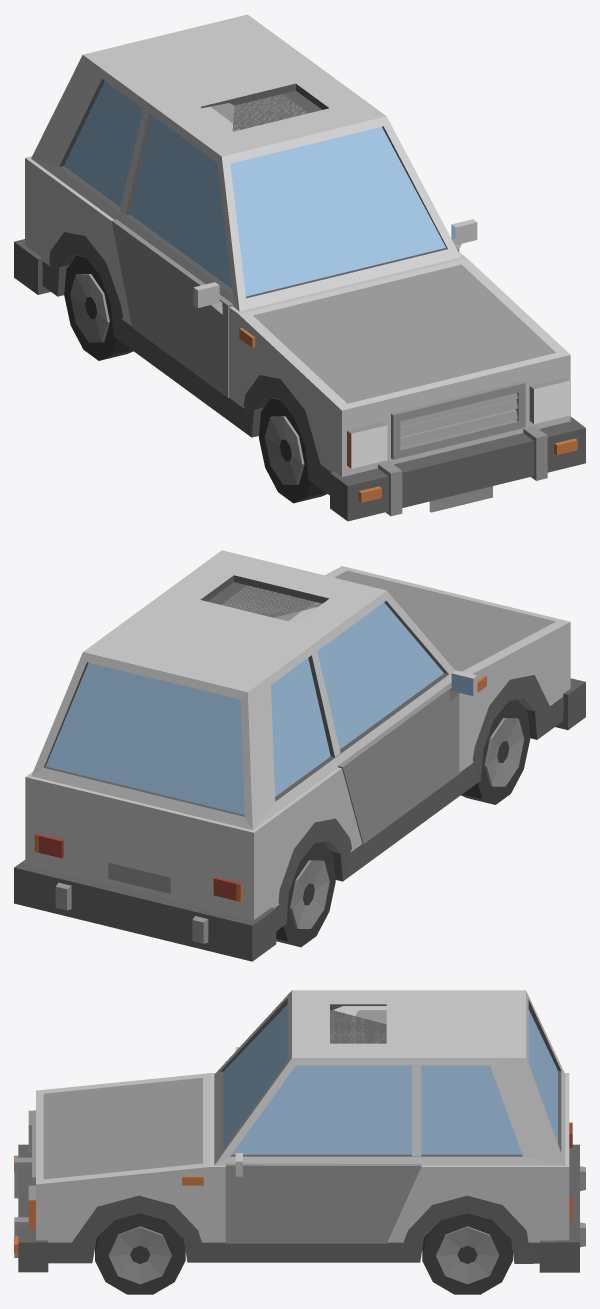
File: transport_old_001.fbx
3 renders of one model, top to bottom at view 1: azimuth 30°, elevation 25°; view 2: azimuth 150°, elevation 25°; view 3: azimuth 270°, elevation 25°, orthographic. The views are drawn at different scales.
Parts seen in each view (by area): view 1: transport_old_001; view 2: transport_old_001; view 3: transport_old_001.
Part boxes in pixels (x1,y1,x2,y2): transport_old_001: [14, 14, 585, 521]; transport_old_001: [14, 550, 585, 961]; transport_old_001: [14, 990, 585, 1294].
Bounding box in the file's own units: 148 × 136 × 311.
